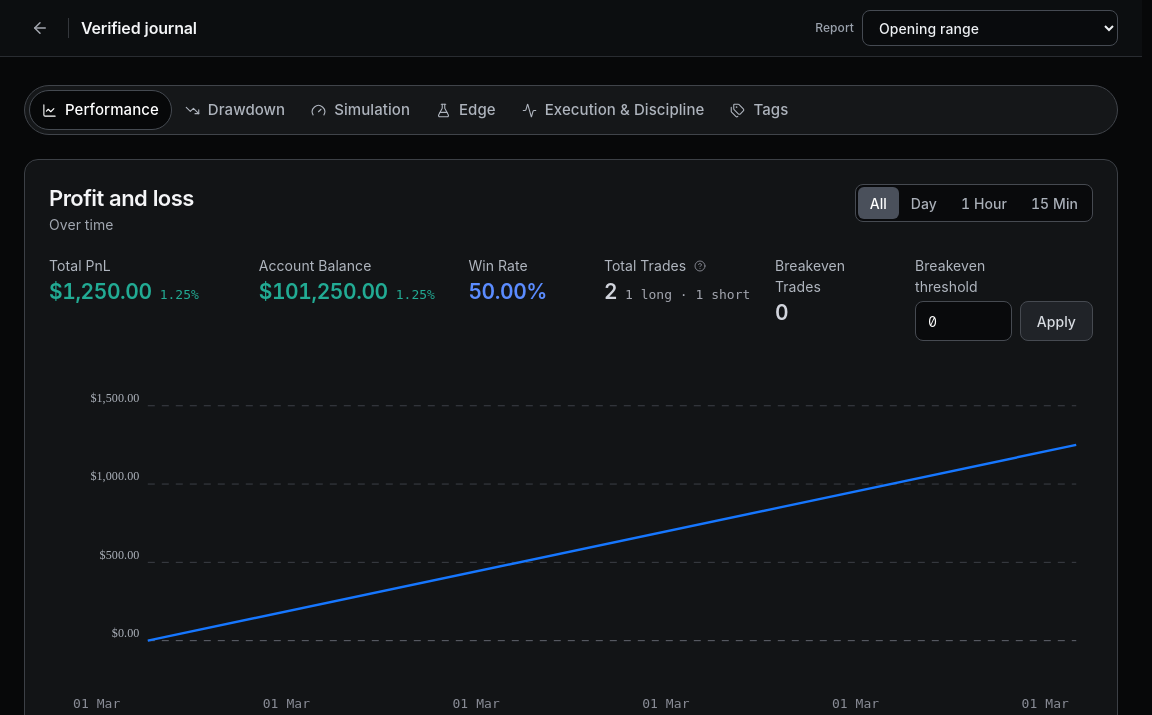
Test case: AnalyticsScreen › loads drawdown only when its tab is selected
What coordinates should you click on to do the following:
click the tab "Drawdown"
I would click on:
 (235, 110)
Its box is 172,90 -> 298,130.
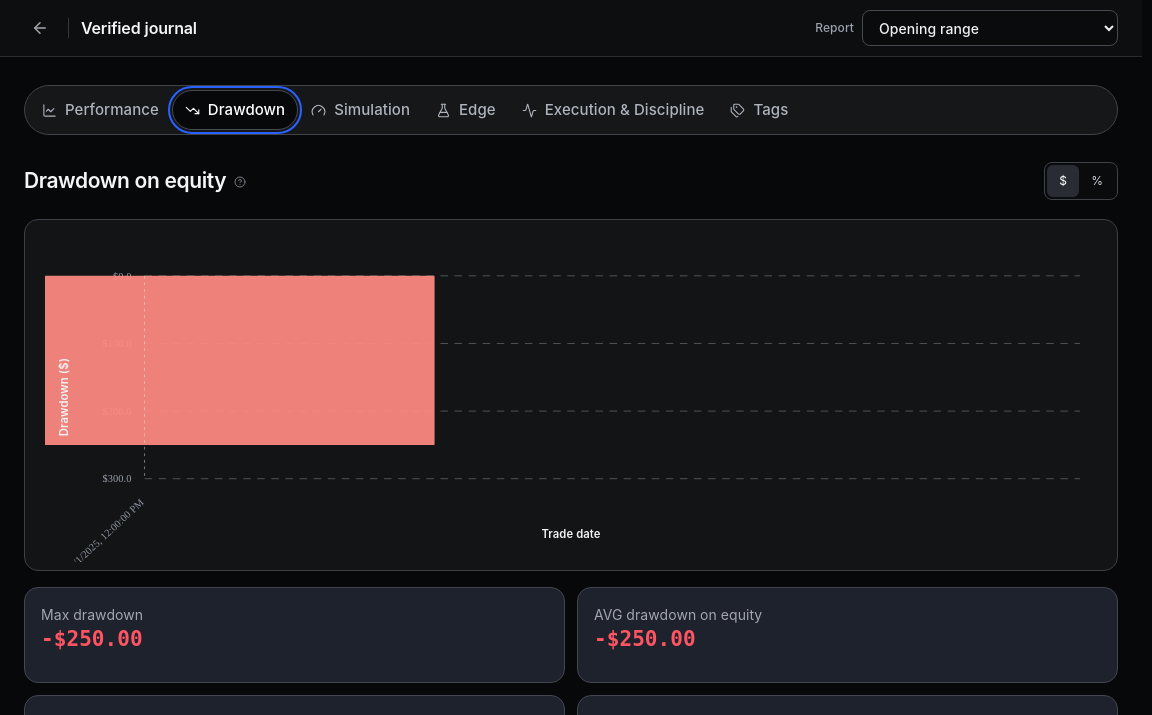
Check: the heading "Drawdown on equity" is shown, box 24,170 -> 250,192
Check: the picture named "Drawdown on equity in dollars" is shown, box 45,232 -> 1097,562
